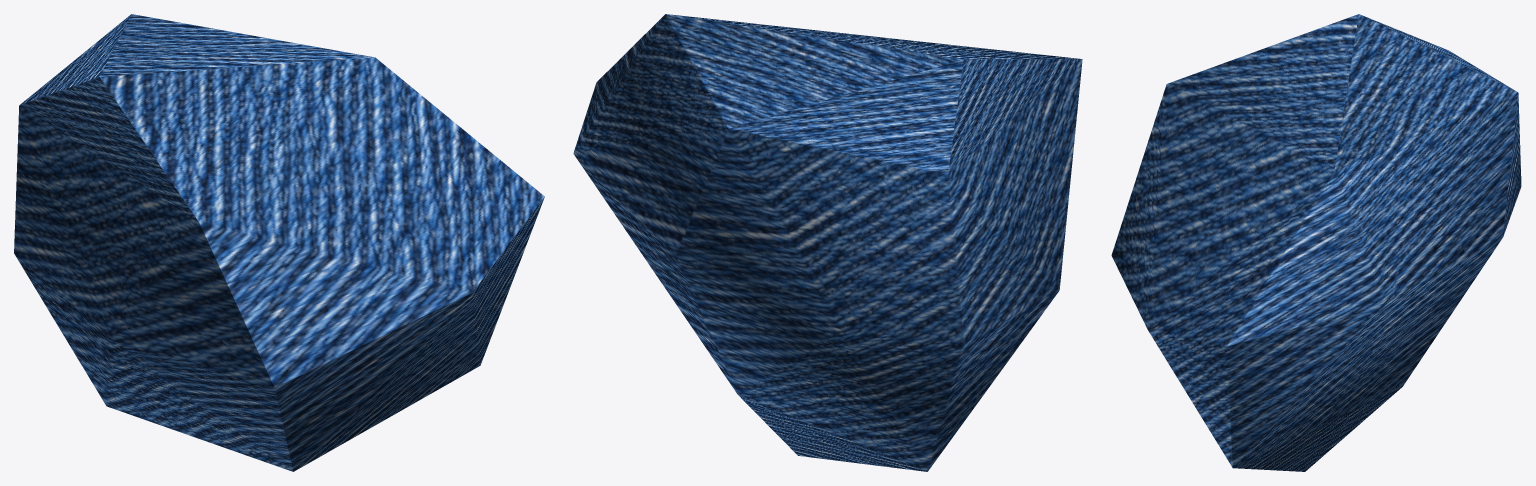
File: mm9_deco_stoneblue.glb
3 renders of one model, left to right at view 1: azimuth 30°, elevation 25°; view 2: azimuth 150°, elevation 25°; view 3: azimuth 270°, elevation 25°, orthographic. The views are drawn at different scales.
Parts seen in each view (by area): view 1: Stoneblue; view 2: Stoneblue; view 3: Stoneblue.
Part boxes in pixels (x1,y1,x2,y2): Stoneblue: (14, 14, 544, 471); Stoneblue: (573, 14, 1082, 471); Stoneblue: (1111, 14, 1521, 471).
Size of the model in its own units: 0.2098 by 0.1882 by 0.1843.
Materials: 1 (1 with a texture image).
